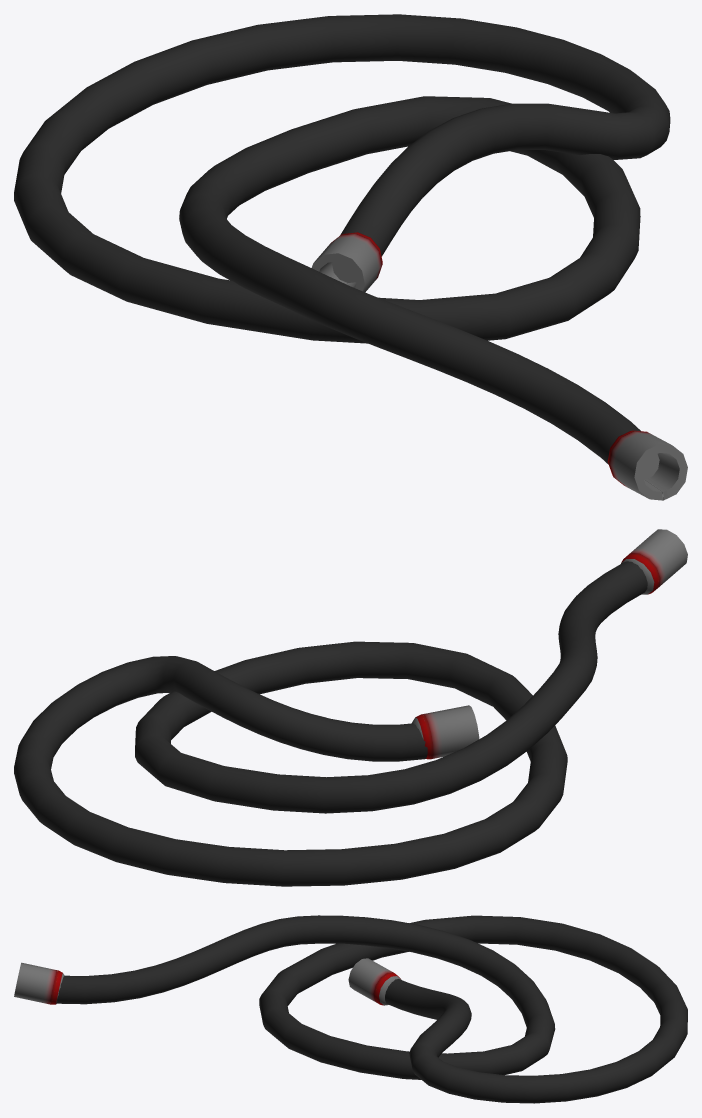
Rendered from cable.glb.
The picture shows the model from 3 angles, top to bottom: view 1: azimuth 30°, elevation 25°; view 2: azimuth 150°, elevation 25°; view 3: azimuth 270°, elevation 25°; orthographic projection. The views are drawn at different scales.
Visible parts, largest first — view 1: Prop_Cable_1; view 2: Prop_Cable_1; view 3: Prop_Cable_1.
Part boxes in pixels (x1=…): Prop_Cable_1: x1=14, y1=14, x2=687, y2=500; Prop_Cable_1: x1=14, y1=529, x2=687, y2=886; Prop_Cable_1: x1=14, y1=915, x2=687, y2=1103.
Size of the model in its own units: 1.02 by 0.1482 by 1.65.
Materials: 2 (2 with a texture image).
